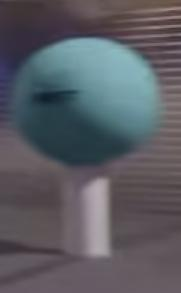algae: (10, 34, 163, 168)
coral: (60, 163, 112, 258)
